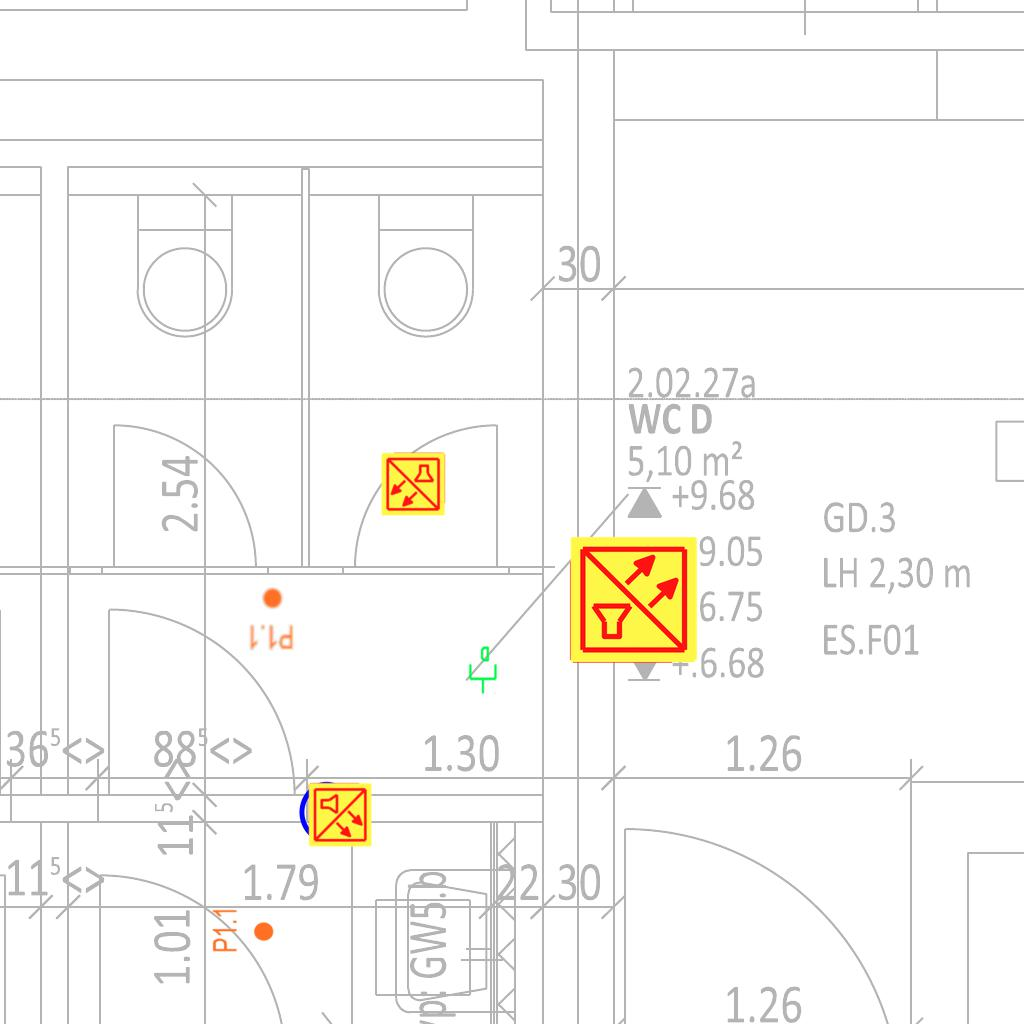Datenanschluss_einfach: (464, 644, 500, 696)
Downlight_LED_Einbauleuchten_Flur: (211, 907, 275, 953), (248, 587, 294, 651)
OKW_Multisensormelder_(Kombination_optischer_Rauch-Kahlenmonoxid_Waerme-Melder): (568, 534, 700, 666), (380, 451, 446, 517), (307, 782, 373, 848)
Taster_beleuchtet: (293, 779, 359, 845)
